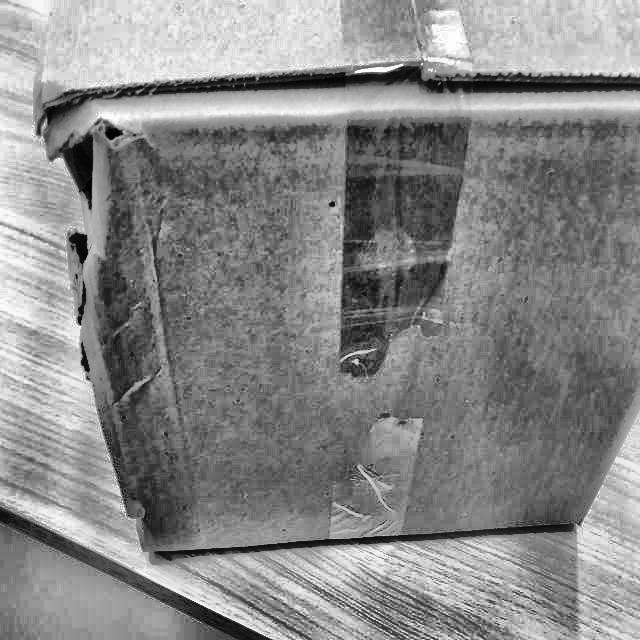box: (19, 0, 639, 565)
hole: (66, 125, 102, 329)
